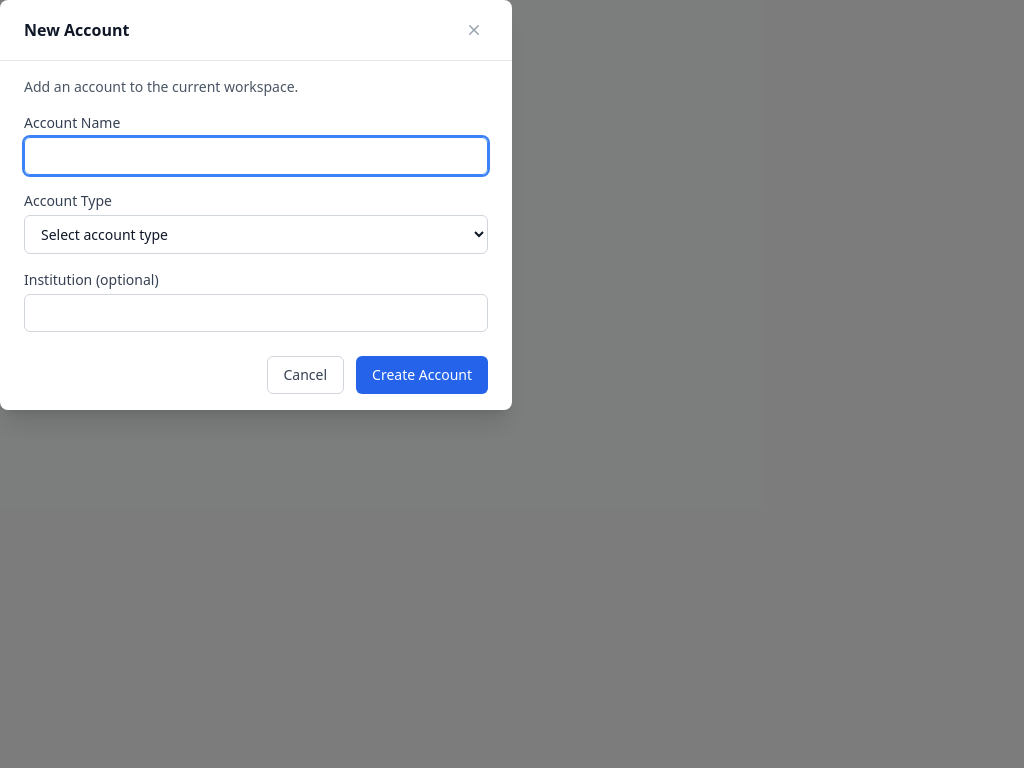
Test: CreateAccountDialog — validation › requires an account name
Select "Checking" in the dropdown labelled "Account Type": (256, 234) [24, 215, 488, 254]
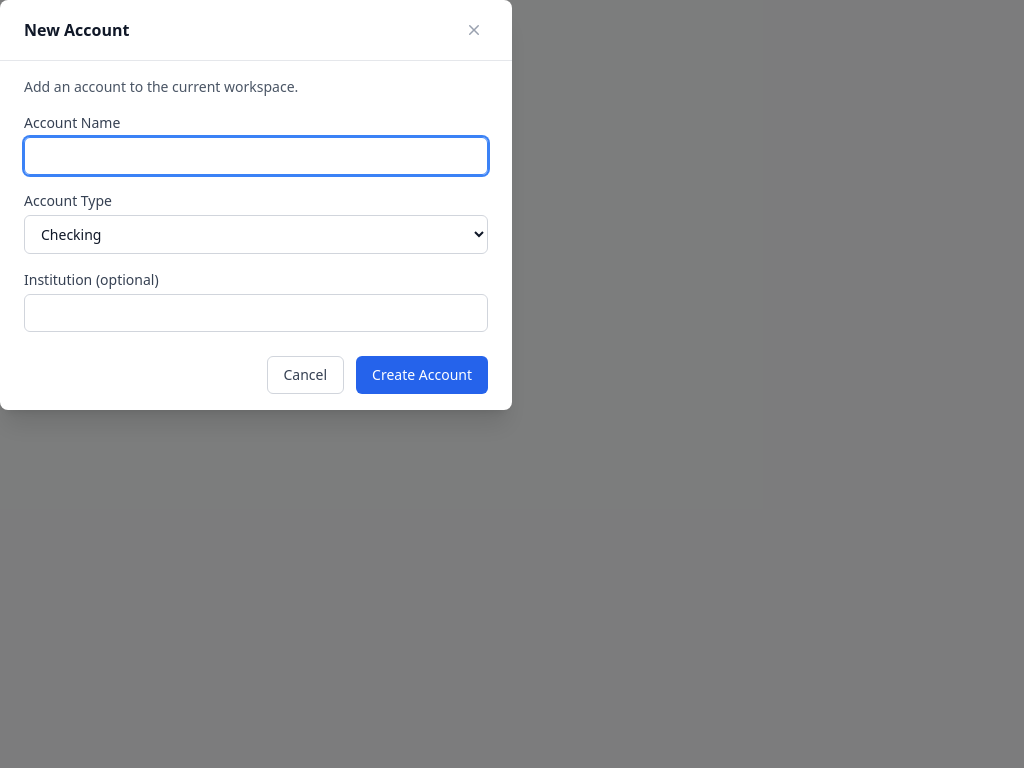
Click the button "Create Account": click(422, 375) [356, 356, 488, 394]
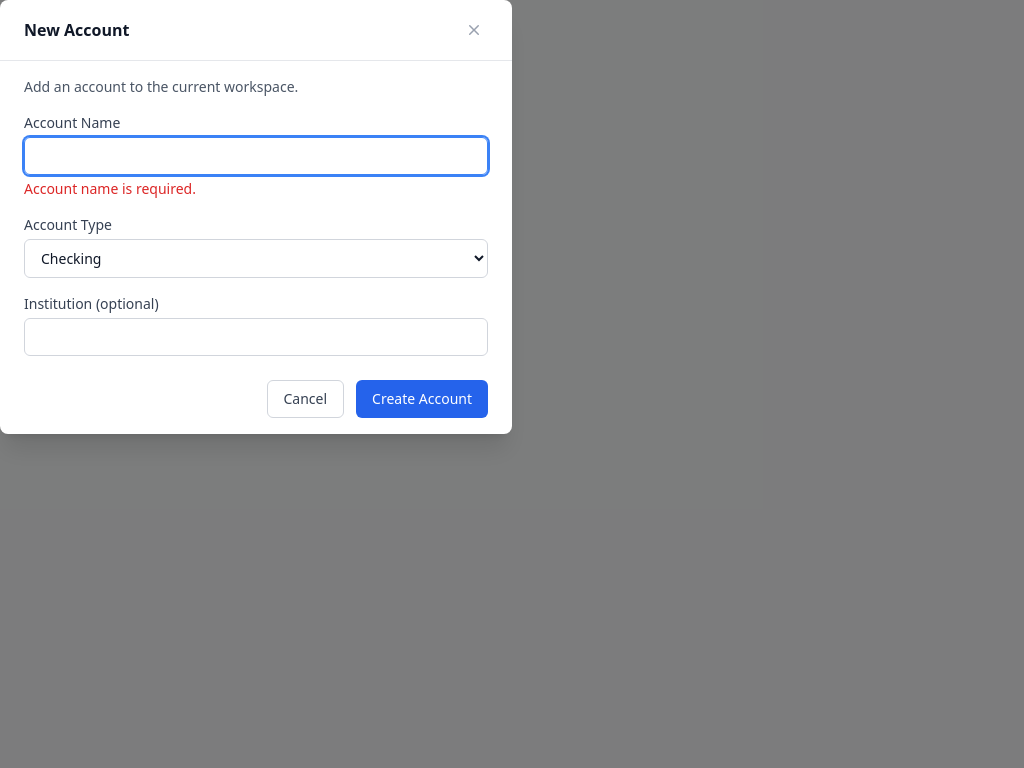
Now the text "Account name is required." is shown, box [24, 179, 196, 198]
